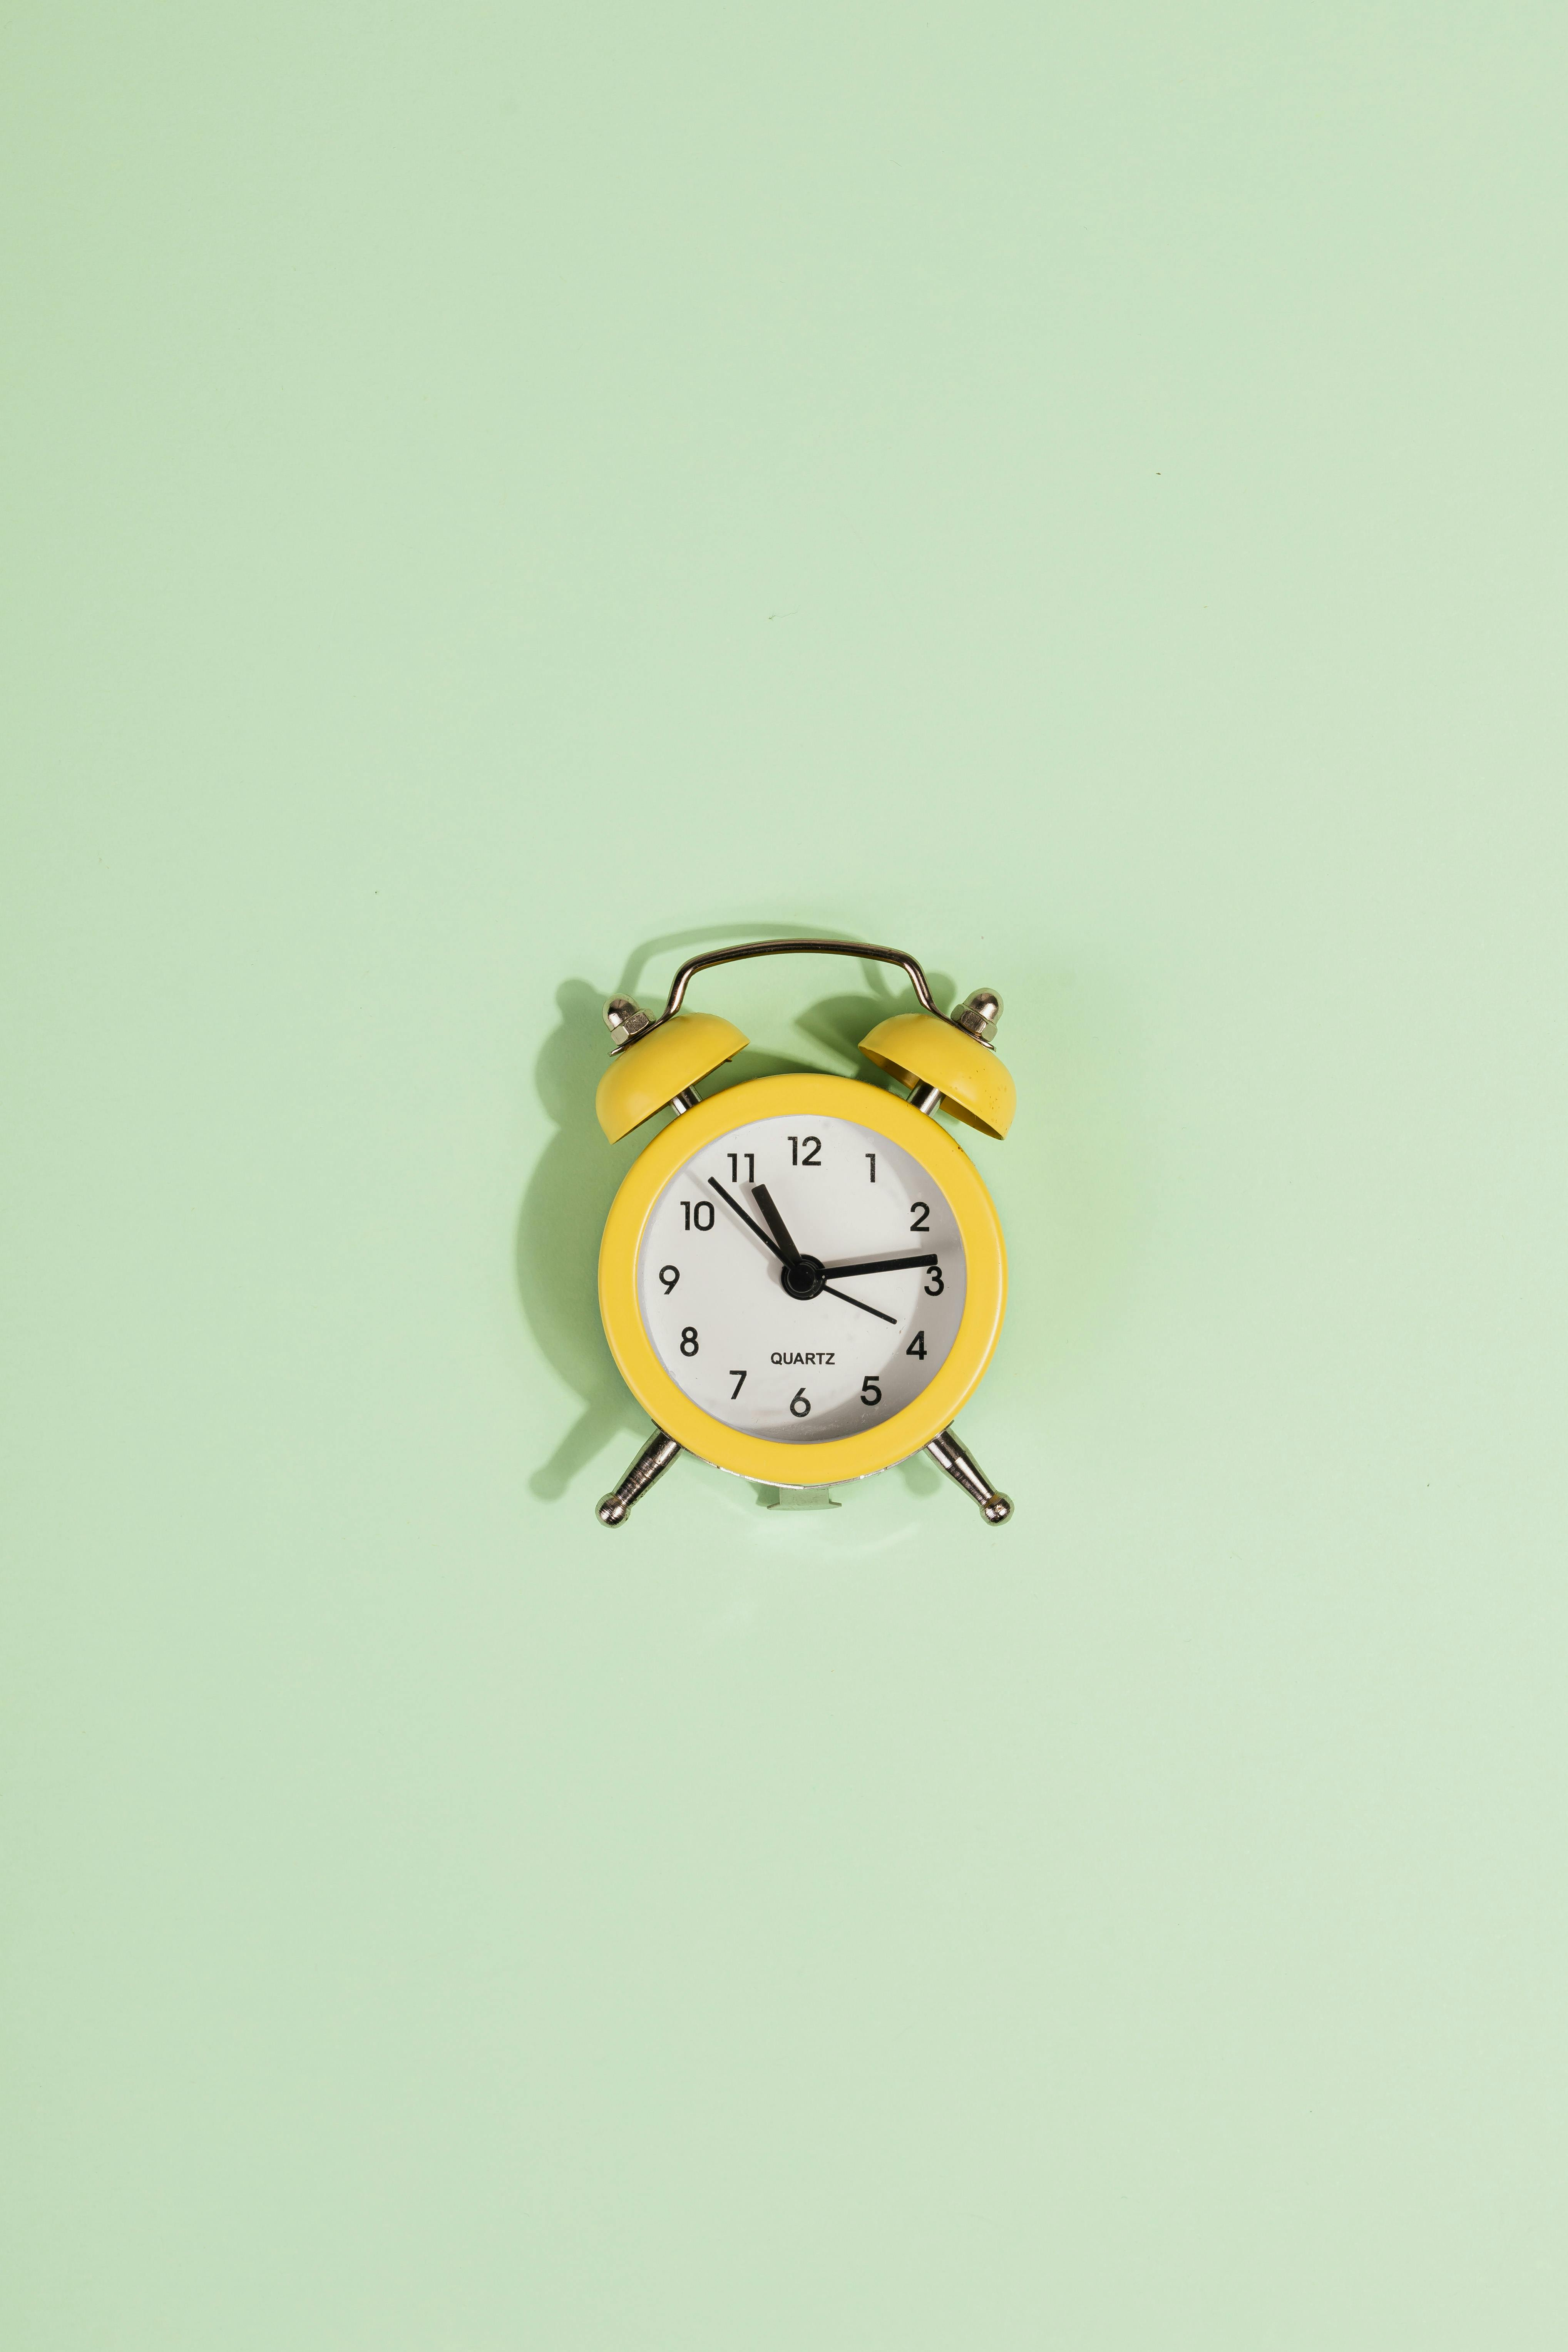clock: (436, 793, 1262, 1615)
